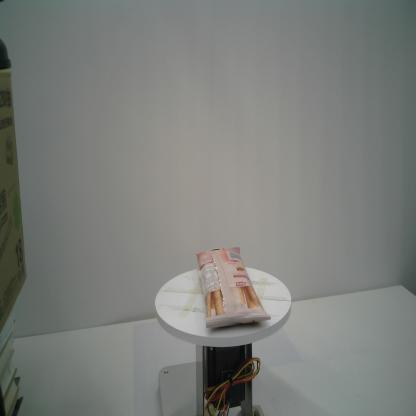Dessert: (195, 245, 271, 330)
